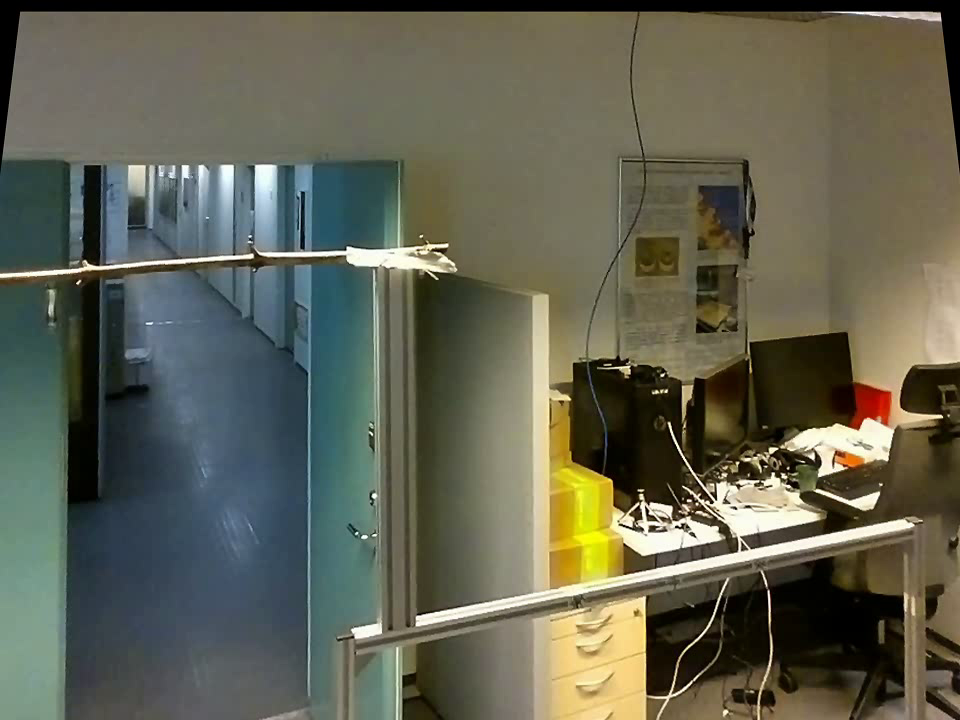aluminum_frame: (351, 512, 925, 656), (367, 271, 418, 631), (900, 517, 932, 718), (328, 625, 366, 718)
branch: (3, 231, 343, 297)
